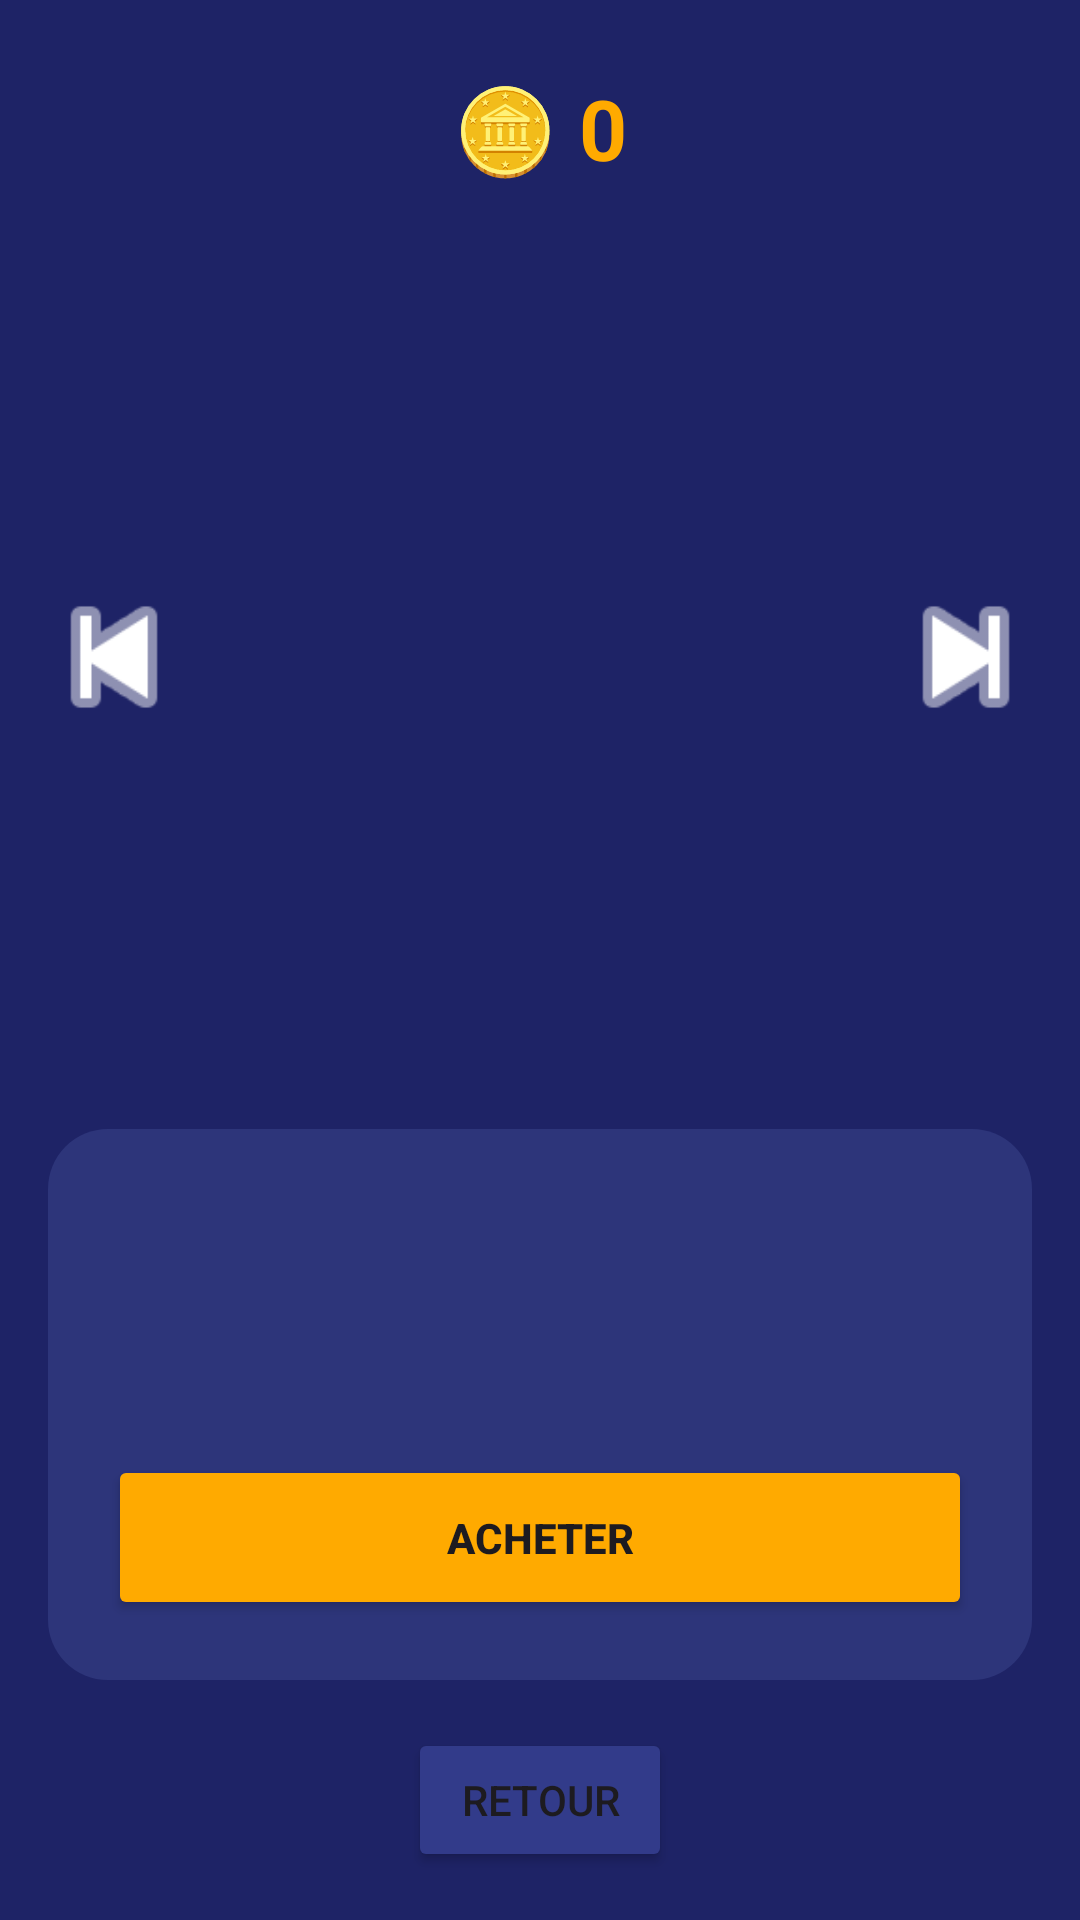

Icons on this 1080*1920 Android screen, each with the point to tap as [x,y]:
next: [966,657]
previous: [114,657]
